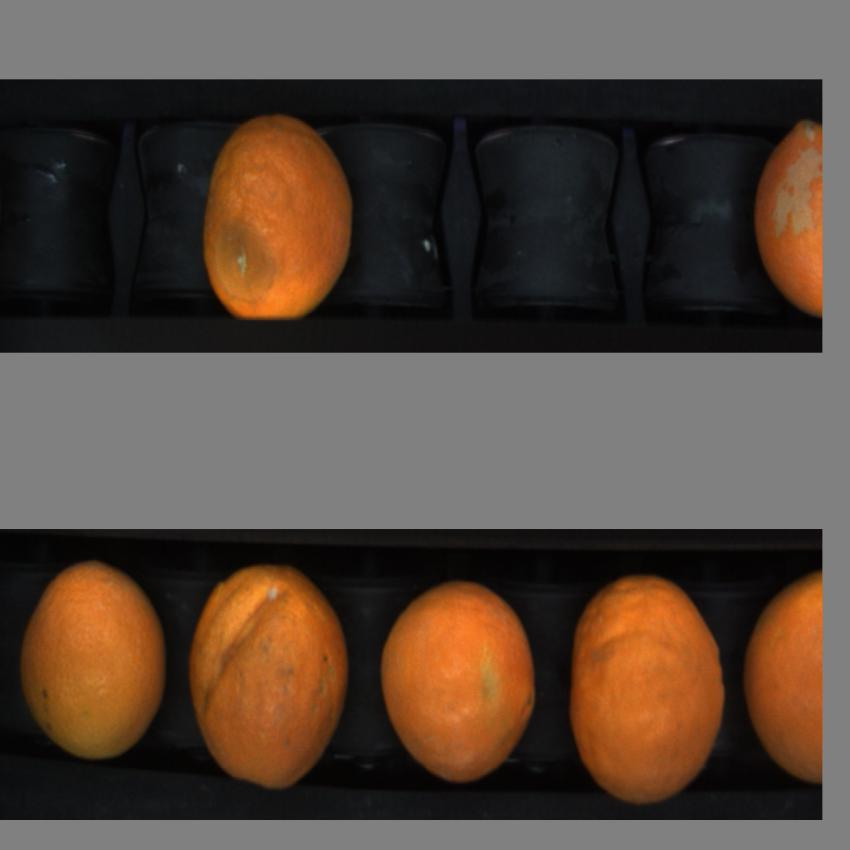Buen estado: (562, 568, 736, 811), (373, 568, 551, 790), (15, 555, 170, 781), (738, 570, 825, 784)
Mal estado: (186, 559, 353, 800), (198, 104, 367, 327), (748, 111, 823, 334)
